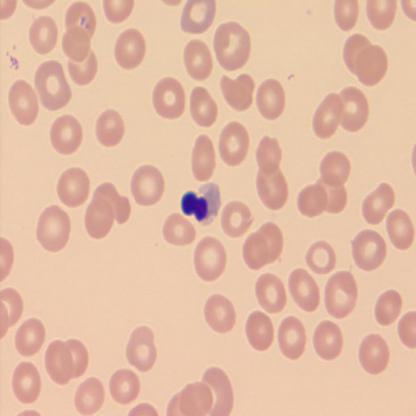NRC: (179, 181, 223, 228)
